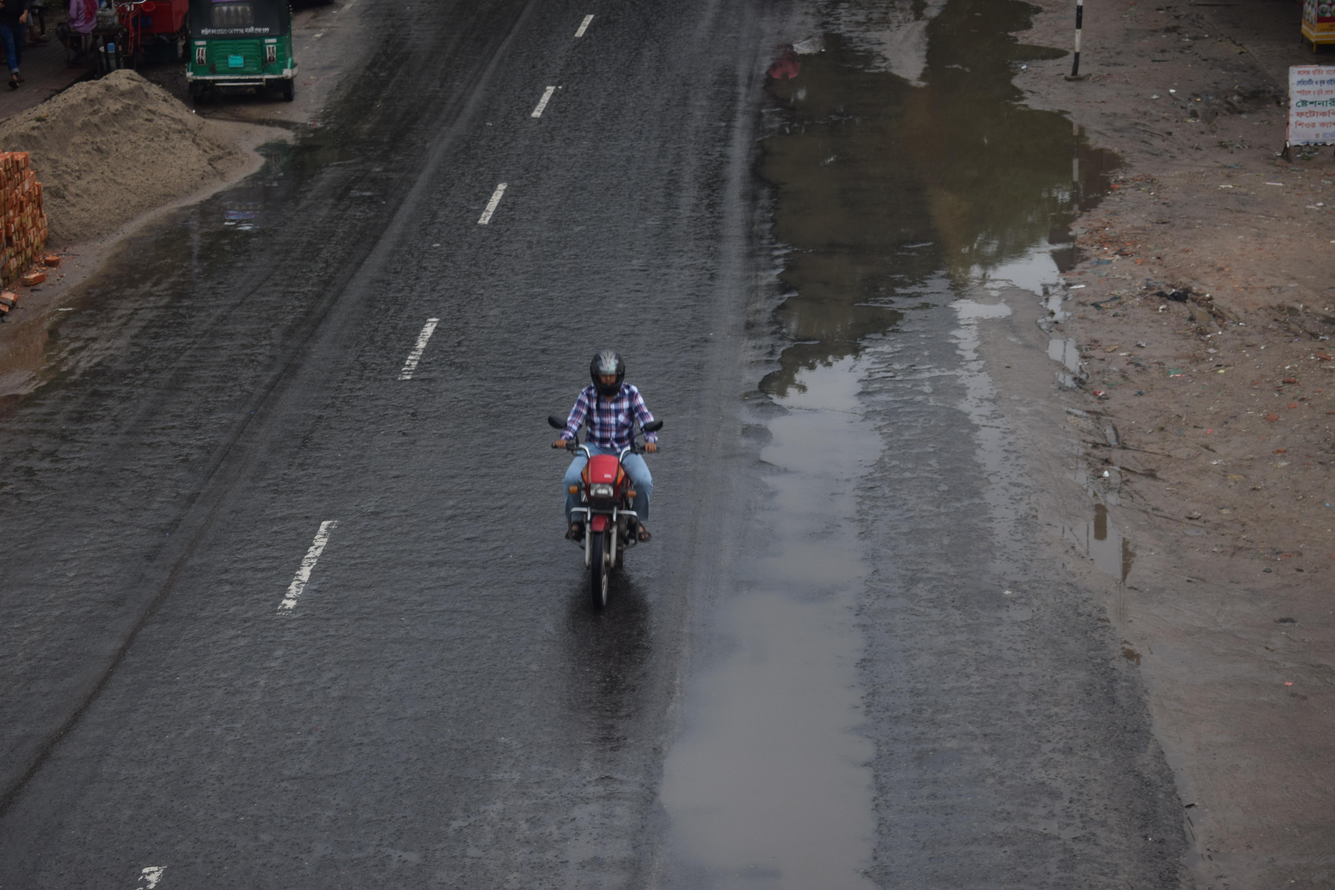Bike: (480, 293, 750, 635)
